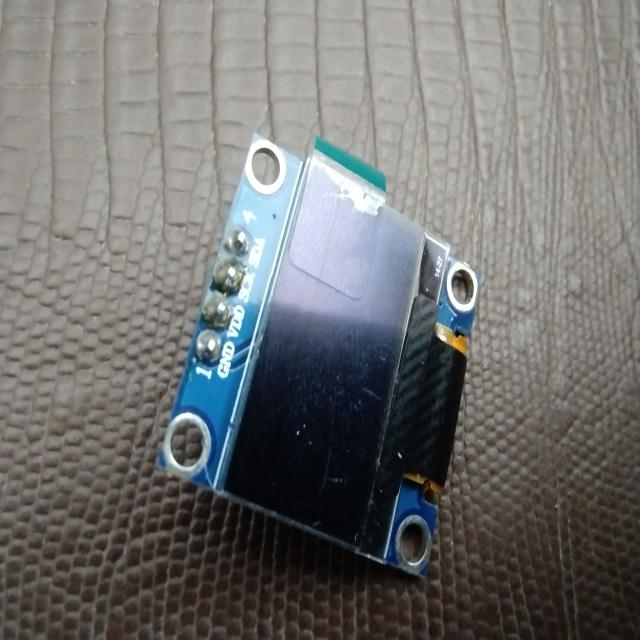oled: (157, 110, 483, 599)
